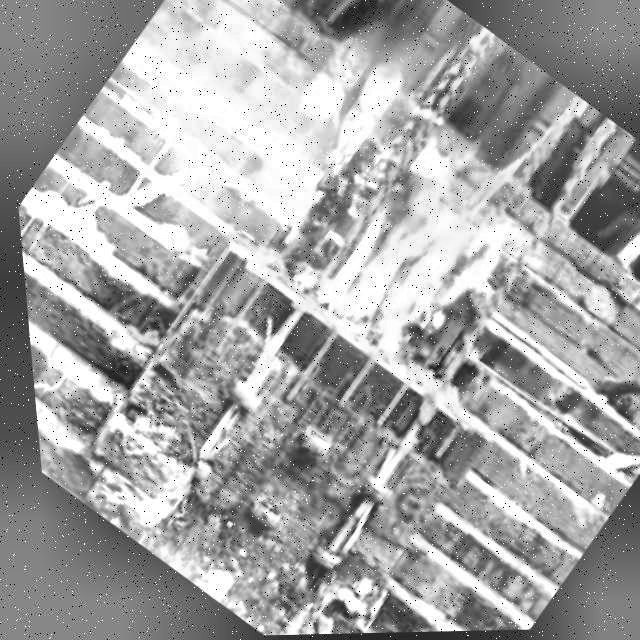Fire: (281, 128, 544, 389)
